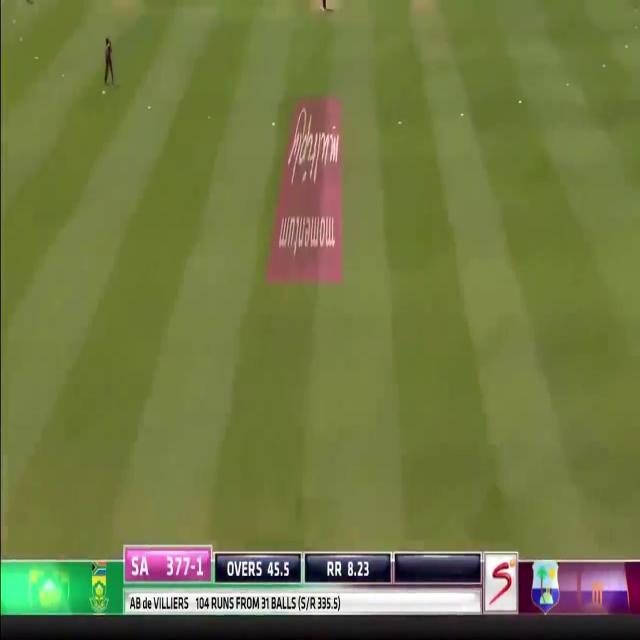Fielder: (101, 34, 116, 90)
